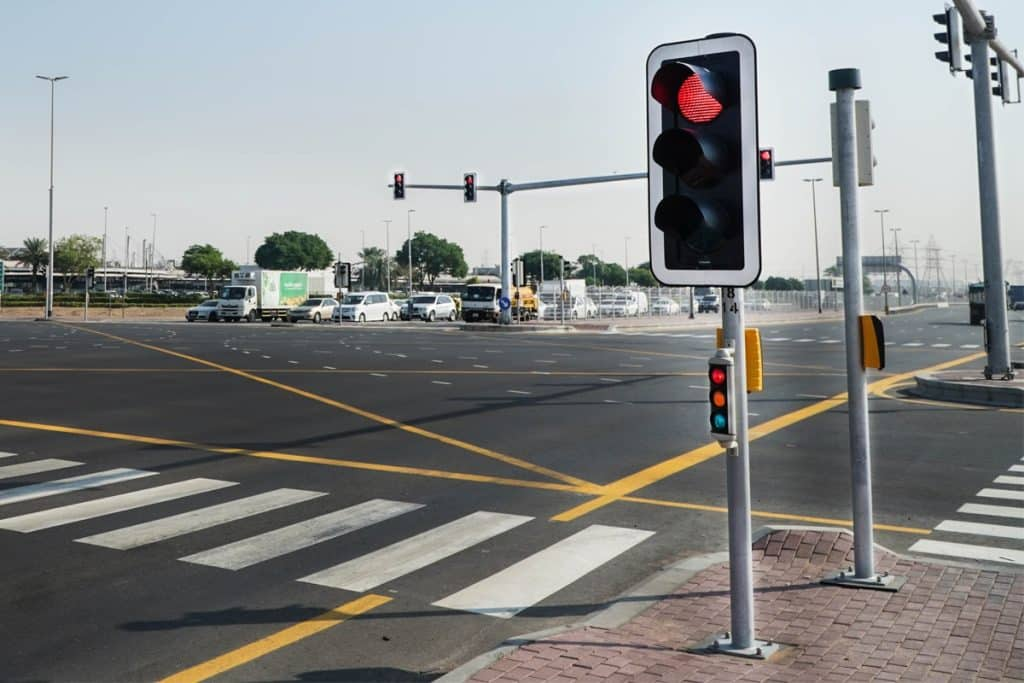red: (645, 34, 758, 290), (708, 355, 735, 437), (760, 147, 773, 181), (463, 173, 476, 203), (393, 172, 405, 200)
